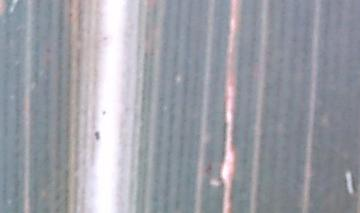tarspot: (94, 132, 101, 141)
